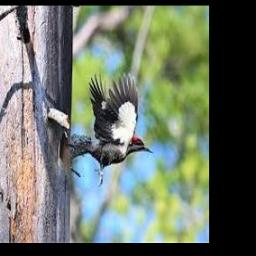Woodpecker: (66, 72, 154, 186)
